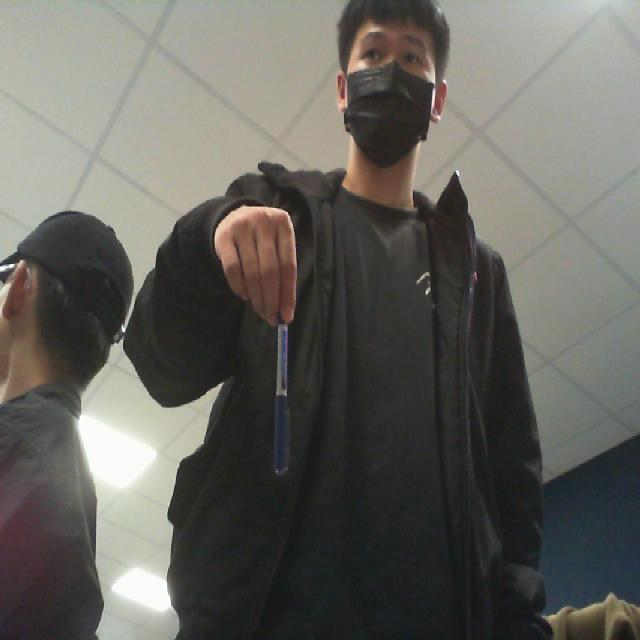Pen: (262, 307, 304, 500)
